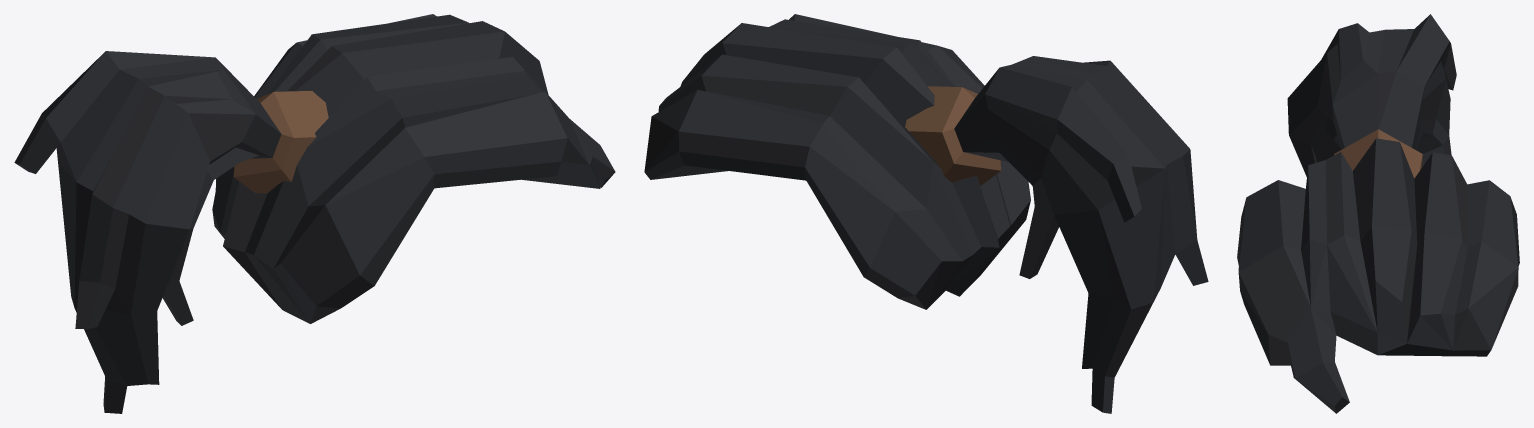
Rendered from apoc_SM_Chr_Attach_Islander_Male_Hair_01.gltf.
3 views of the same model, side by side, from view 1: azimuth 30°, elevation 25°; view 2: azimuth 150°, elevation 25°; view 3: azimuth 270°, elevation 25° (orthographic). The views are drawn at different scales.
Visible parts, largest first — view 1: SM_Chr_Attach_Islander_Male_Hair_01; view 2: SM_Chr_Attach_Islander_Male_Hair_01; view 3: SM_Chr_Attach_Islander_Male_Hair_01.
Part boxes in pixels (<box>): SM_Chr_Attach_Islander_Male_Hair_01: <box>14,14,615,413</box>; SM_Chr_Attach_Islander_Male_Hair_01: <box>644,14,1208,413</box>; SM_Chr_Attach_Islander_Male_Hair_01: <box>1237,14,1519,413</box>.
Bounding box in the file's own units: 0.4477 × 0.2736 × 0.2179.
1 material, 1 textured.
